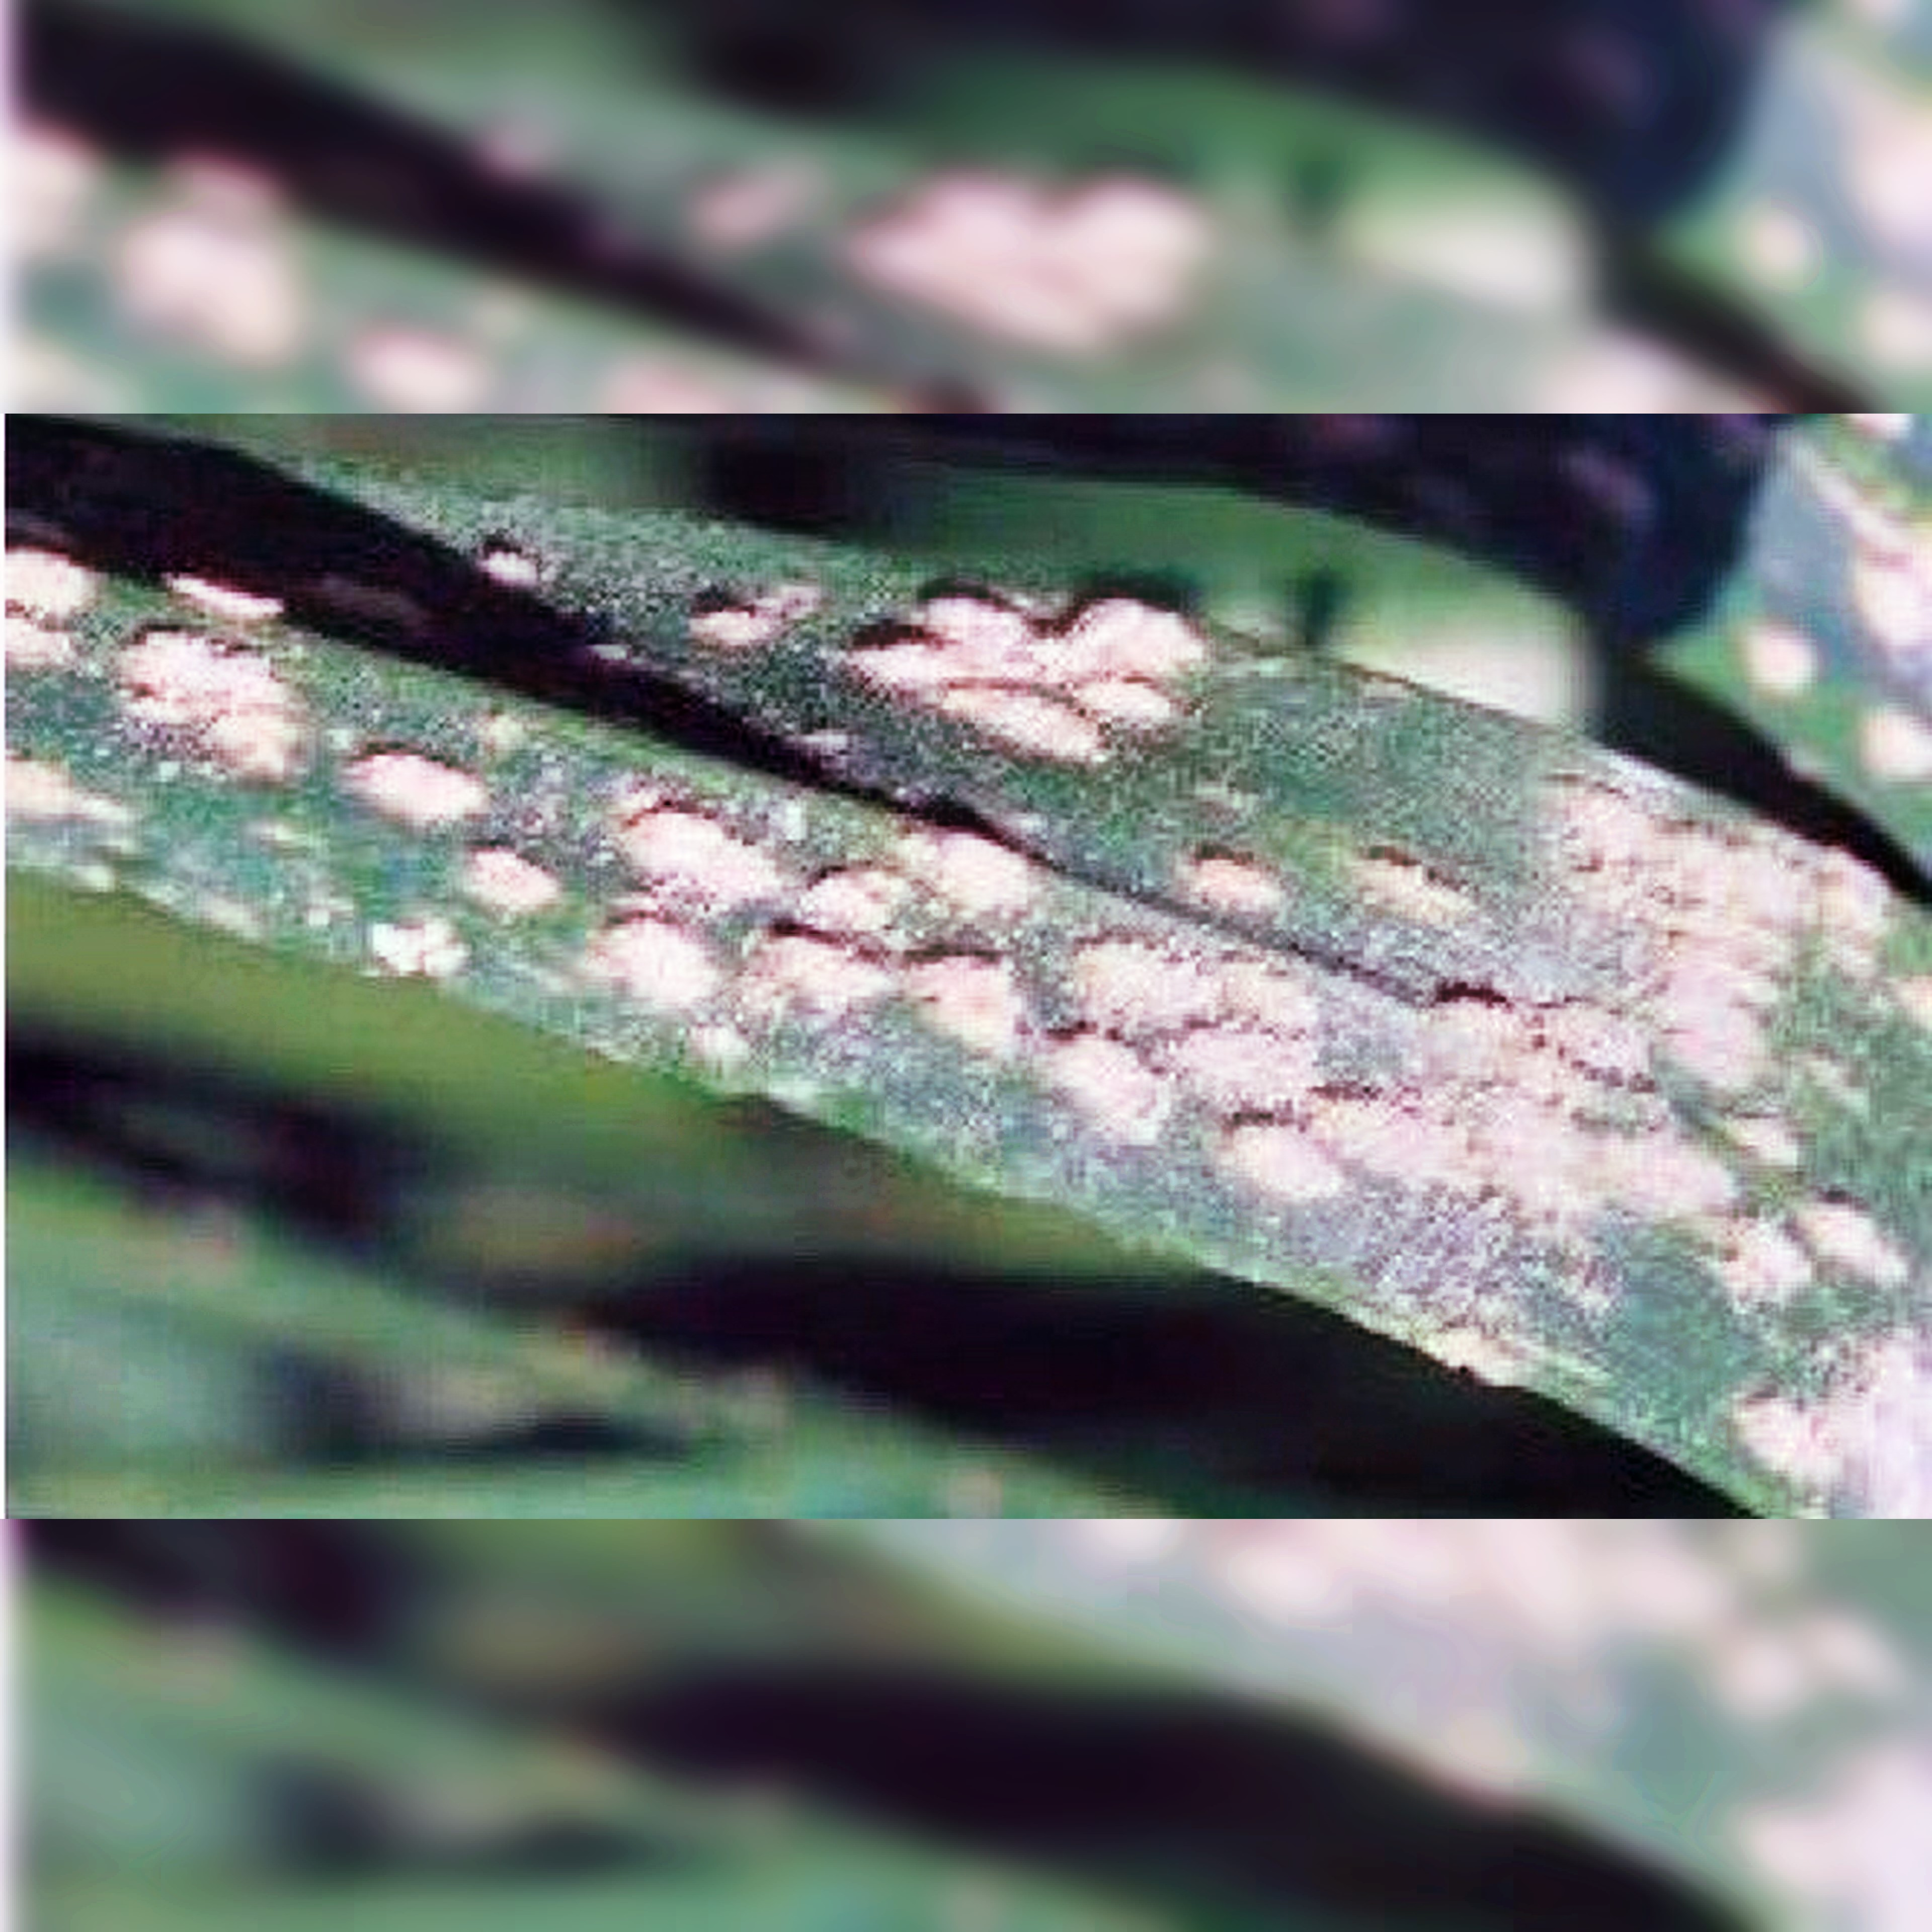Powdery Mildew: (136, 510, 1790, 1373)
